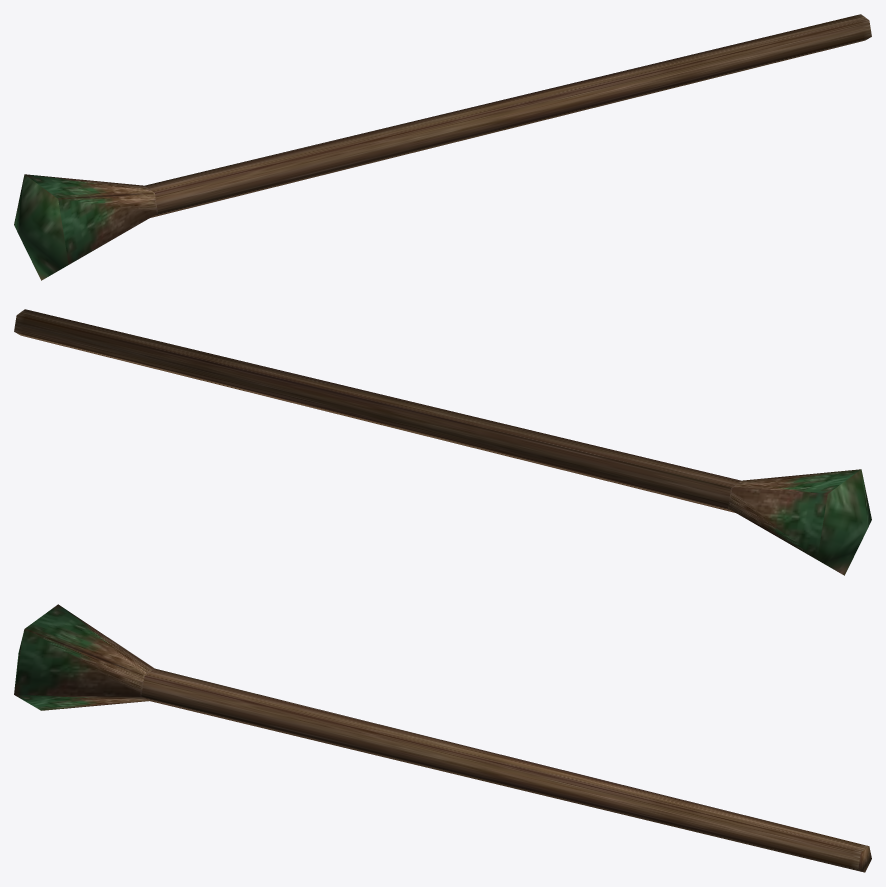
The model's file is ITMI_STOMPER.glb.
3 views of the same model, one above another, from view 1: azimuth 30°, elevation 25°; view 2: azimuth 150°, elevation 25°; view 3: azimuth 330°, elevation 25° (orthographic).
Parts seen in each view (by area): view 1: Mesh; view 2: Mesh; view 3: Mesh.
Part boxes in pixels (x1,y1,x2,y2): Mesh: [14, 14, 871, 280]; Mesh: [14, 309, 871, 575]; Mesh: [14, 604, 871, 872].
Bounding box in the file's own units: 1.44 × 0.1535 × 0.1614.
Materials: 1 (1 with a texture image).
